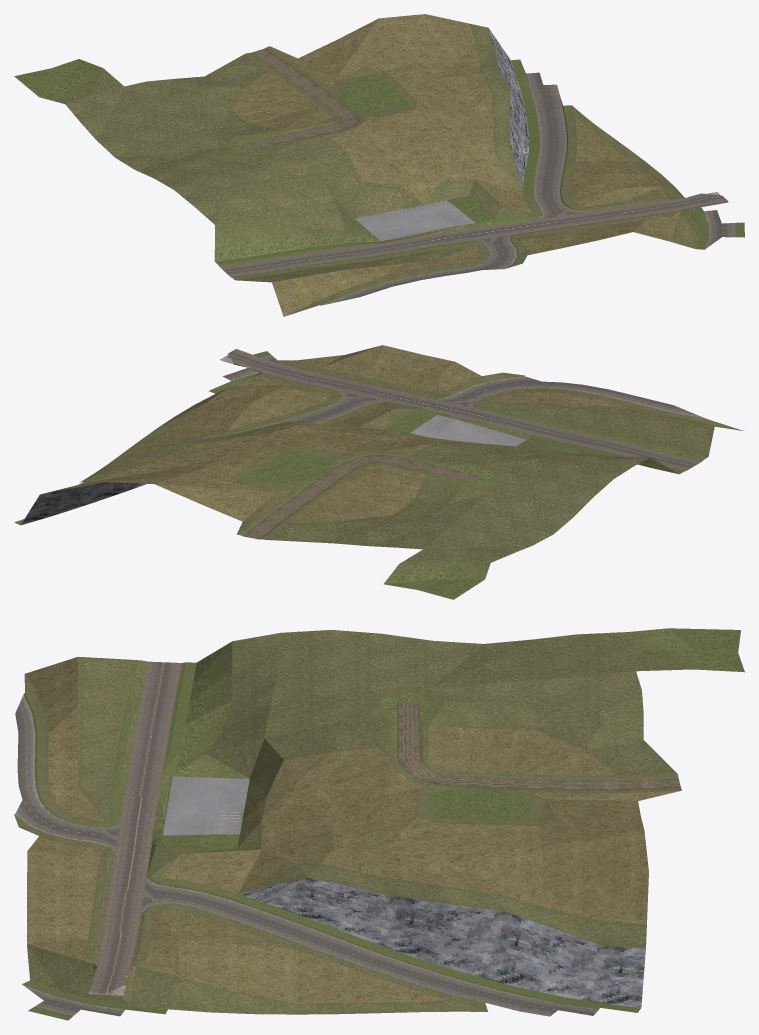
Rendered from nw_lodbit_23.obj.
The picture shows the model from 3 angles, top to bottom: view 1: azimuth 30°, elevation 25°; view 2: azimuth 150°, elevation 25°; view 3: azimuth 270°, elevation 25°; orthographic projection. The views are drawn at different scales.
Parts seen in each view (by area): view 1: nw_lodbit_23; view 2: nw_lodbit_23; view 3: nw_lodbit_23.
Part boxes in pixels (x1,y1,x2,y2): nw_lodbit_23: [14, 14, 744, 316]; nw_lodbit_23: [14, 345, 743, 599]; nw_lodbit_23: [14, 628, 744, 1020].
Size of the model in its own units: 252 by 38.82 by 254.
Materials: 15 (15 with a texture image).
